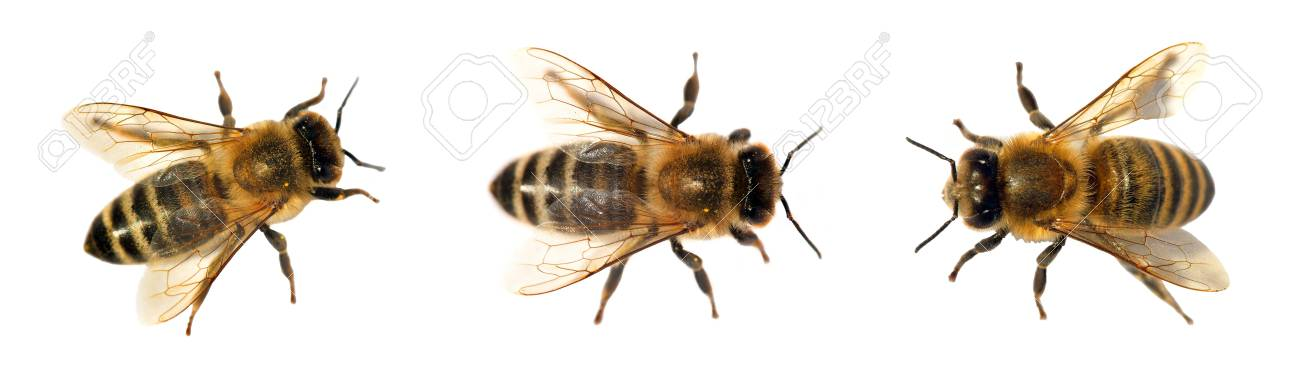bee: (894, 27, 1270, 351), (478, 27, 867, 339), (48, 49, 409, 352)
